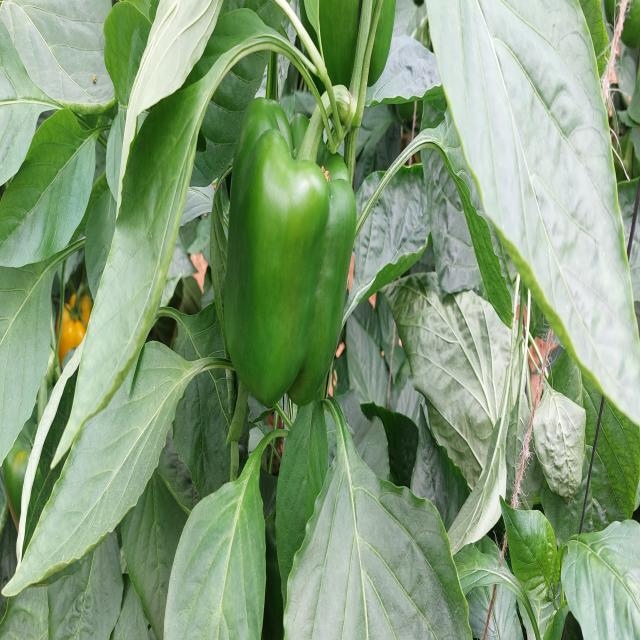Green--Not-ready-to-harvest: (228, 63, 348, 407), (348, 52, 350, 92)
